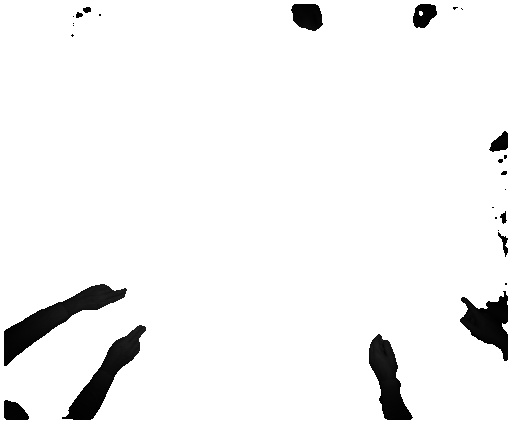hand: (108, 322, 151, 376), (456, 298, 499, 350), (368, 330, 407, 384), (79, 280, 127, 314)
